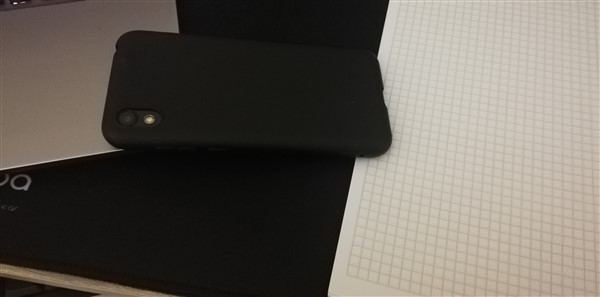telefon: (96, 25, 403, 168)
